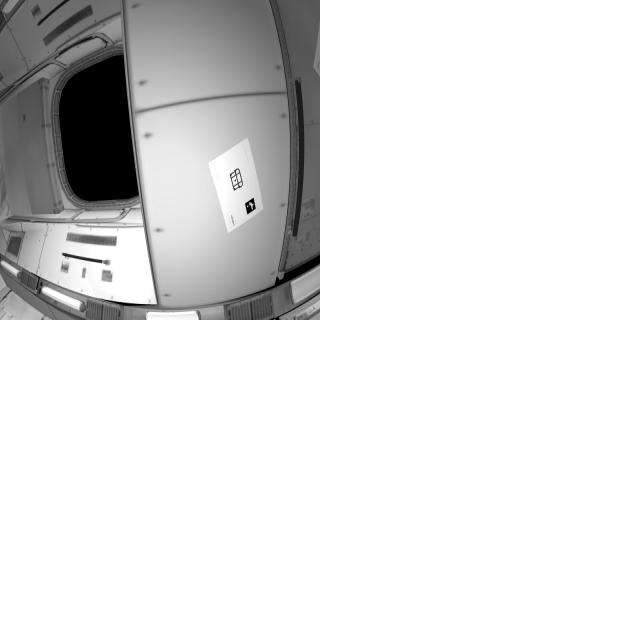treasure_box: (227, 167, 248, 196)
